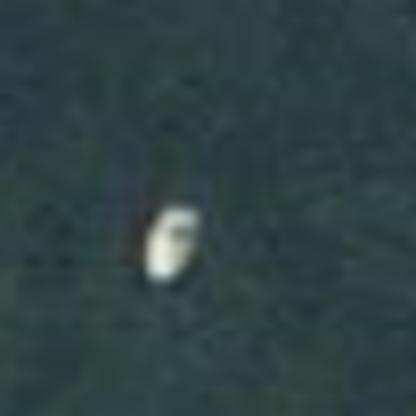ship: (122, 191, 218, 294)
